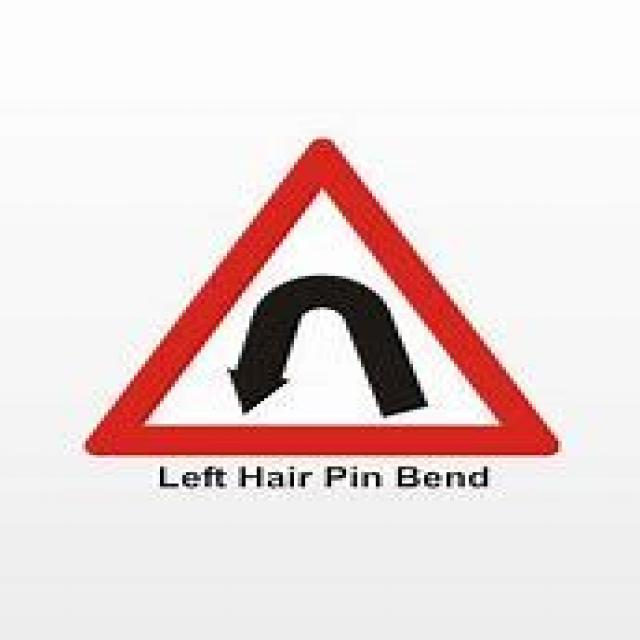LEFT_HAIR_PIN_BEND: (82, 134, 558, 452)
